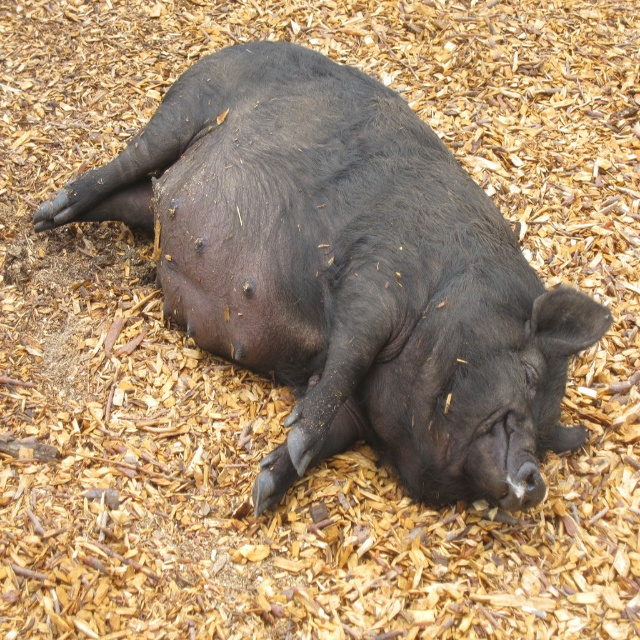Pig: (30, 36, 616, 524)
